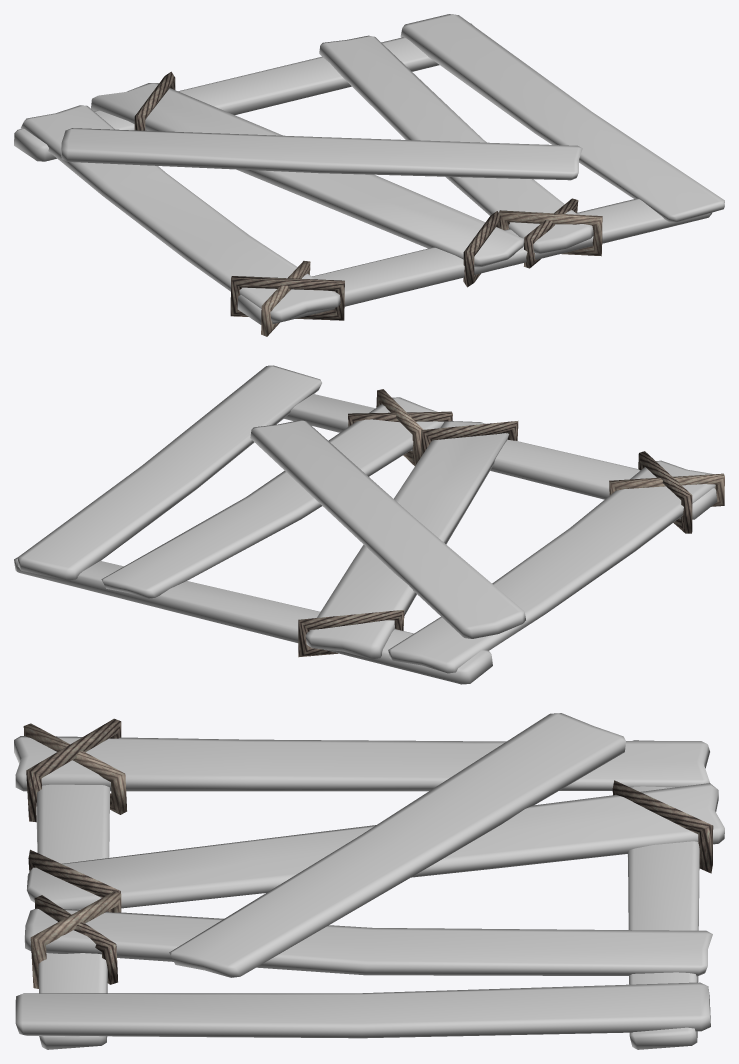
File: WoodenPlateform_B.FBX
3 views of the same model, one above another, from view 1: azimuth 30°, elevation 25°; view 2: azimuth 150°, elevation 25°; view 3: azimuth 270°, elevation 25° (orthographic). The views are drawn at different scales.
Visible parts, largest first — view 1: WoodenPlateform_B; view 2: WoodenPlateform_B; view 3: WoodenPlateform_B.
Part boxes in pixels (bbox=[...]): WoodenPlateform_B: bbox=[14, 14, 724, 336]; WoodenPlateform_B: bbox=[14, 365, 724, 684]; WoodenPlateform_B: bbox=[14, 713, 724, 1049].
Size of the model in its own units: 299 by 27.33 by 303.
